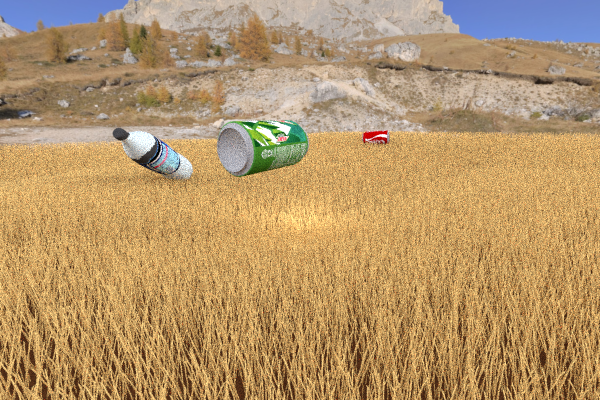bottle: (112, 127, 192, 182)
can: (216, 120, 309, 177), (362, 130, 389, 144)
